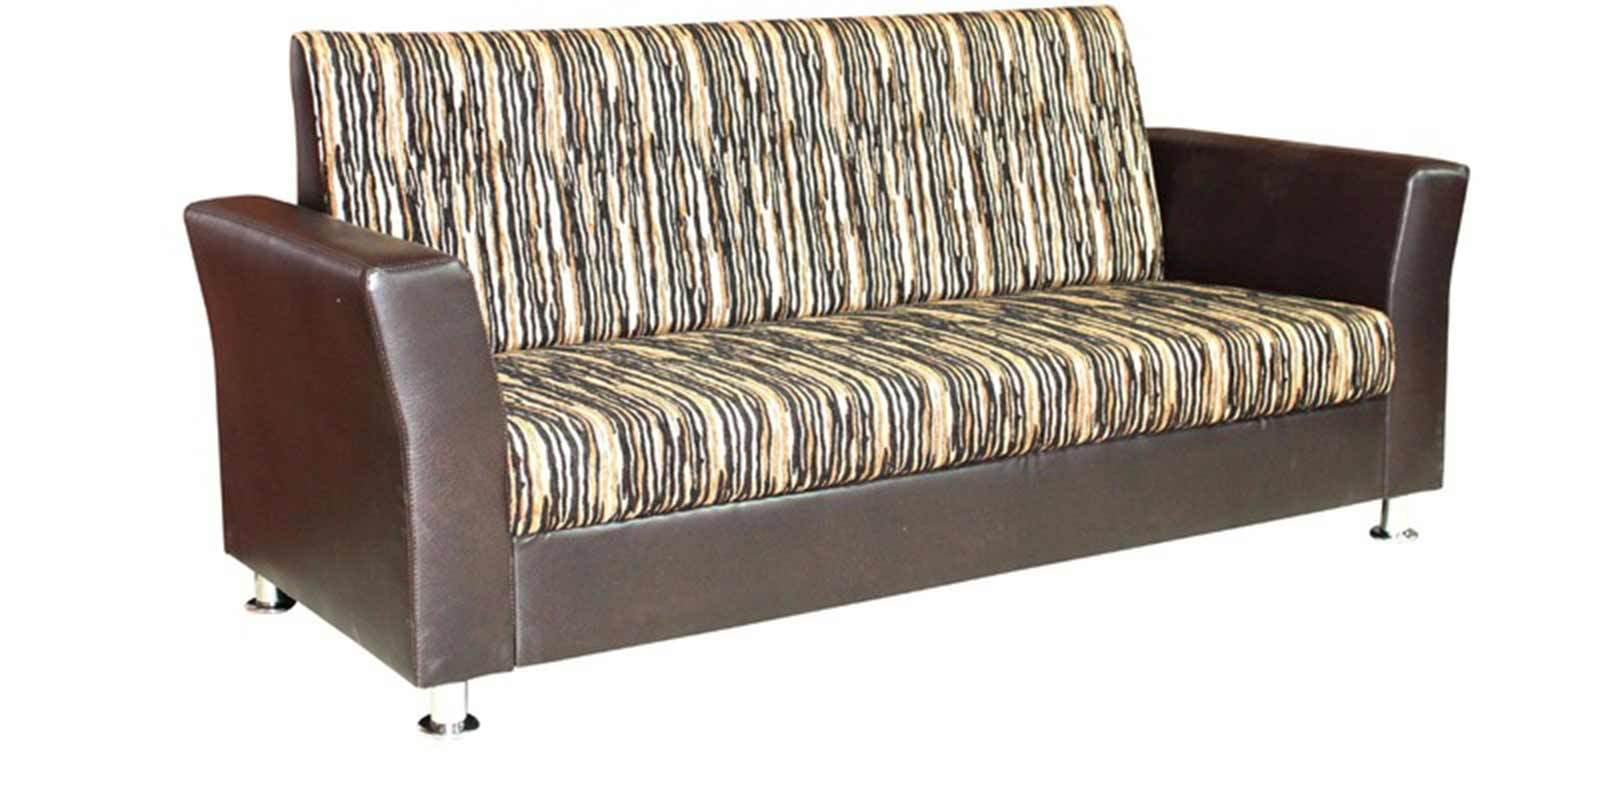Eartigo Three Seater Sofa in Brown Colour by Crystal Furnitech: (184, 19, 1502, 740)
